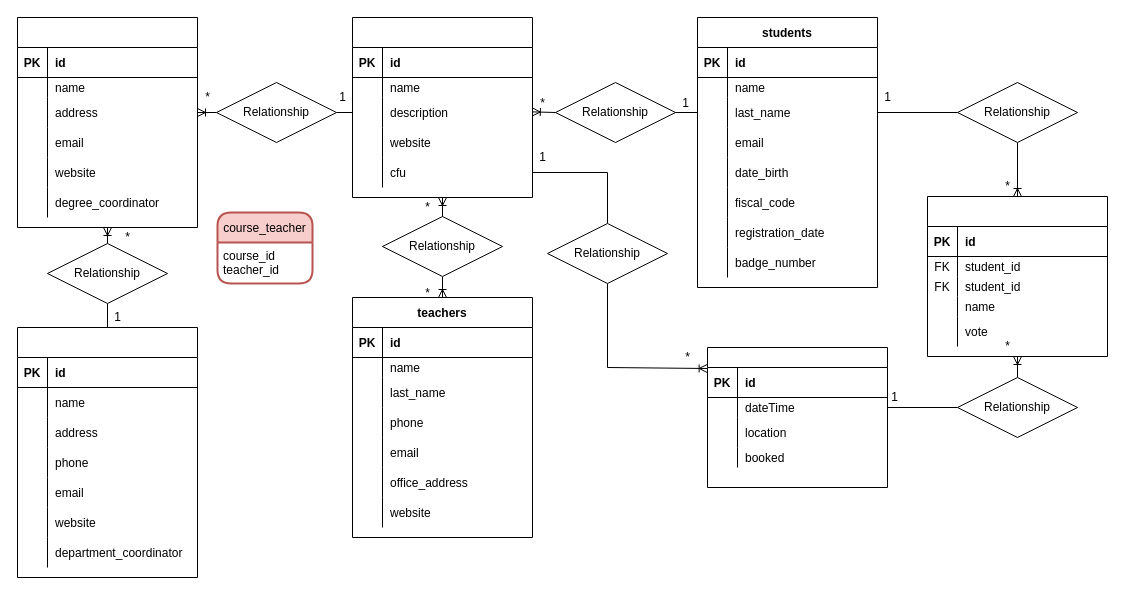
Some shapes in this 1125 by 595 pixel diagram are drawn without their labels. The shapes that lost their labels are listed below. From the top down, each one's box as (x1, y1, x2, y2) in pixels, then its label:
(16, 16, 198, 228): degrees
(352, 16, 532, 198): courses
(926, 196, 1108, 356): exam_student_vote
(706, 346, 888, 488): exam_sessions
(16, 326, 198, 578): Departemens
